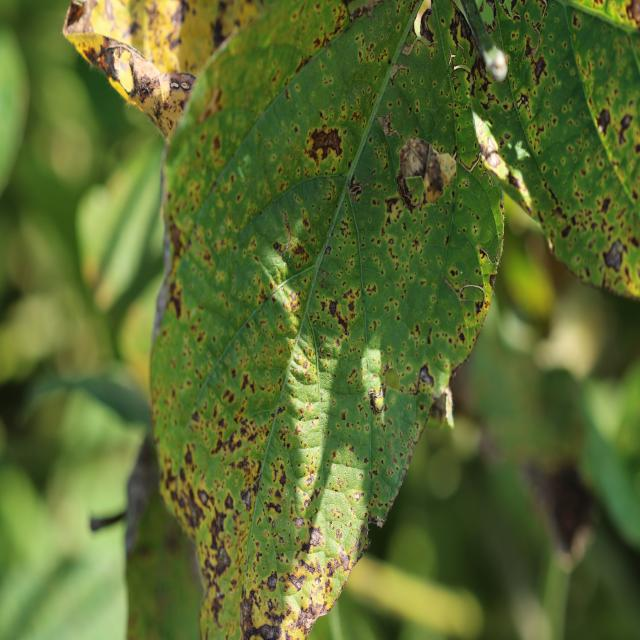Bacterial_Blight: (448, 6, 479, 67), (212, 419, 252, 458), (177, 483, 207, 530), (93, 42, 125, 82), (319, 123, 346, 167), (323, 296, 350, 331), (199, 85, 223, 122), (166, 218, 184, 267), (295, 604, 321, 635), (299, 525, 324, 556), (603, 239, 624, 272), (376, 110, 399, 138), (166, 282, 183, 318), (529, 52, 547, 84), (214, 545, 231, 576), (210, 592, 225, 626), (619, 113, 634, 143), (596, 108, 611, 136), (480, 91, 500, 111), (507, 170, 525, 192), (418, 363, 434, 386), (625, 0, 640, 24), (384, 196, 401, 215), (288, 572, 305, 591), (240, 372, 255, 393), (326, 557, 341, 576), (264, 500, 282, 515), (516, 94, 530, 112), (349, 180, 363, 198), (338, 551, 351, 570), (266, 571, 278, 591), (240, 488, 252, 508), (197, 488, 210, 506), (184, 445, 194, 467), (212, 133, 222, 153), (328, 299, 339, 317), (560, 222, 572, 238), (224, 492, 234, 510), (601, 197, 612, 213), (292, 516, 304, 530), (324, 245, 332, 256), (340, 411, 346, 421)
Soybean: (151, 0, 640, 640)
